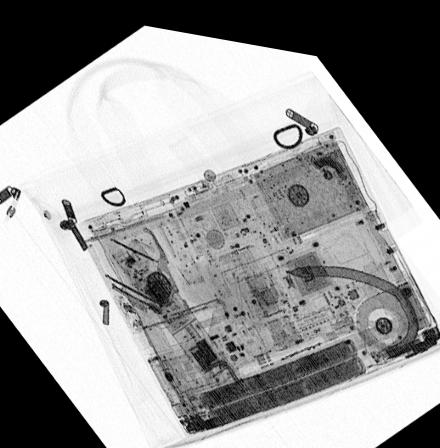Baton: (109, 231, 235, 378)
